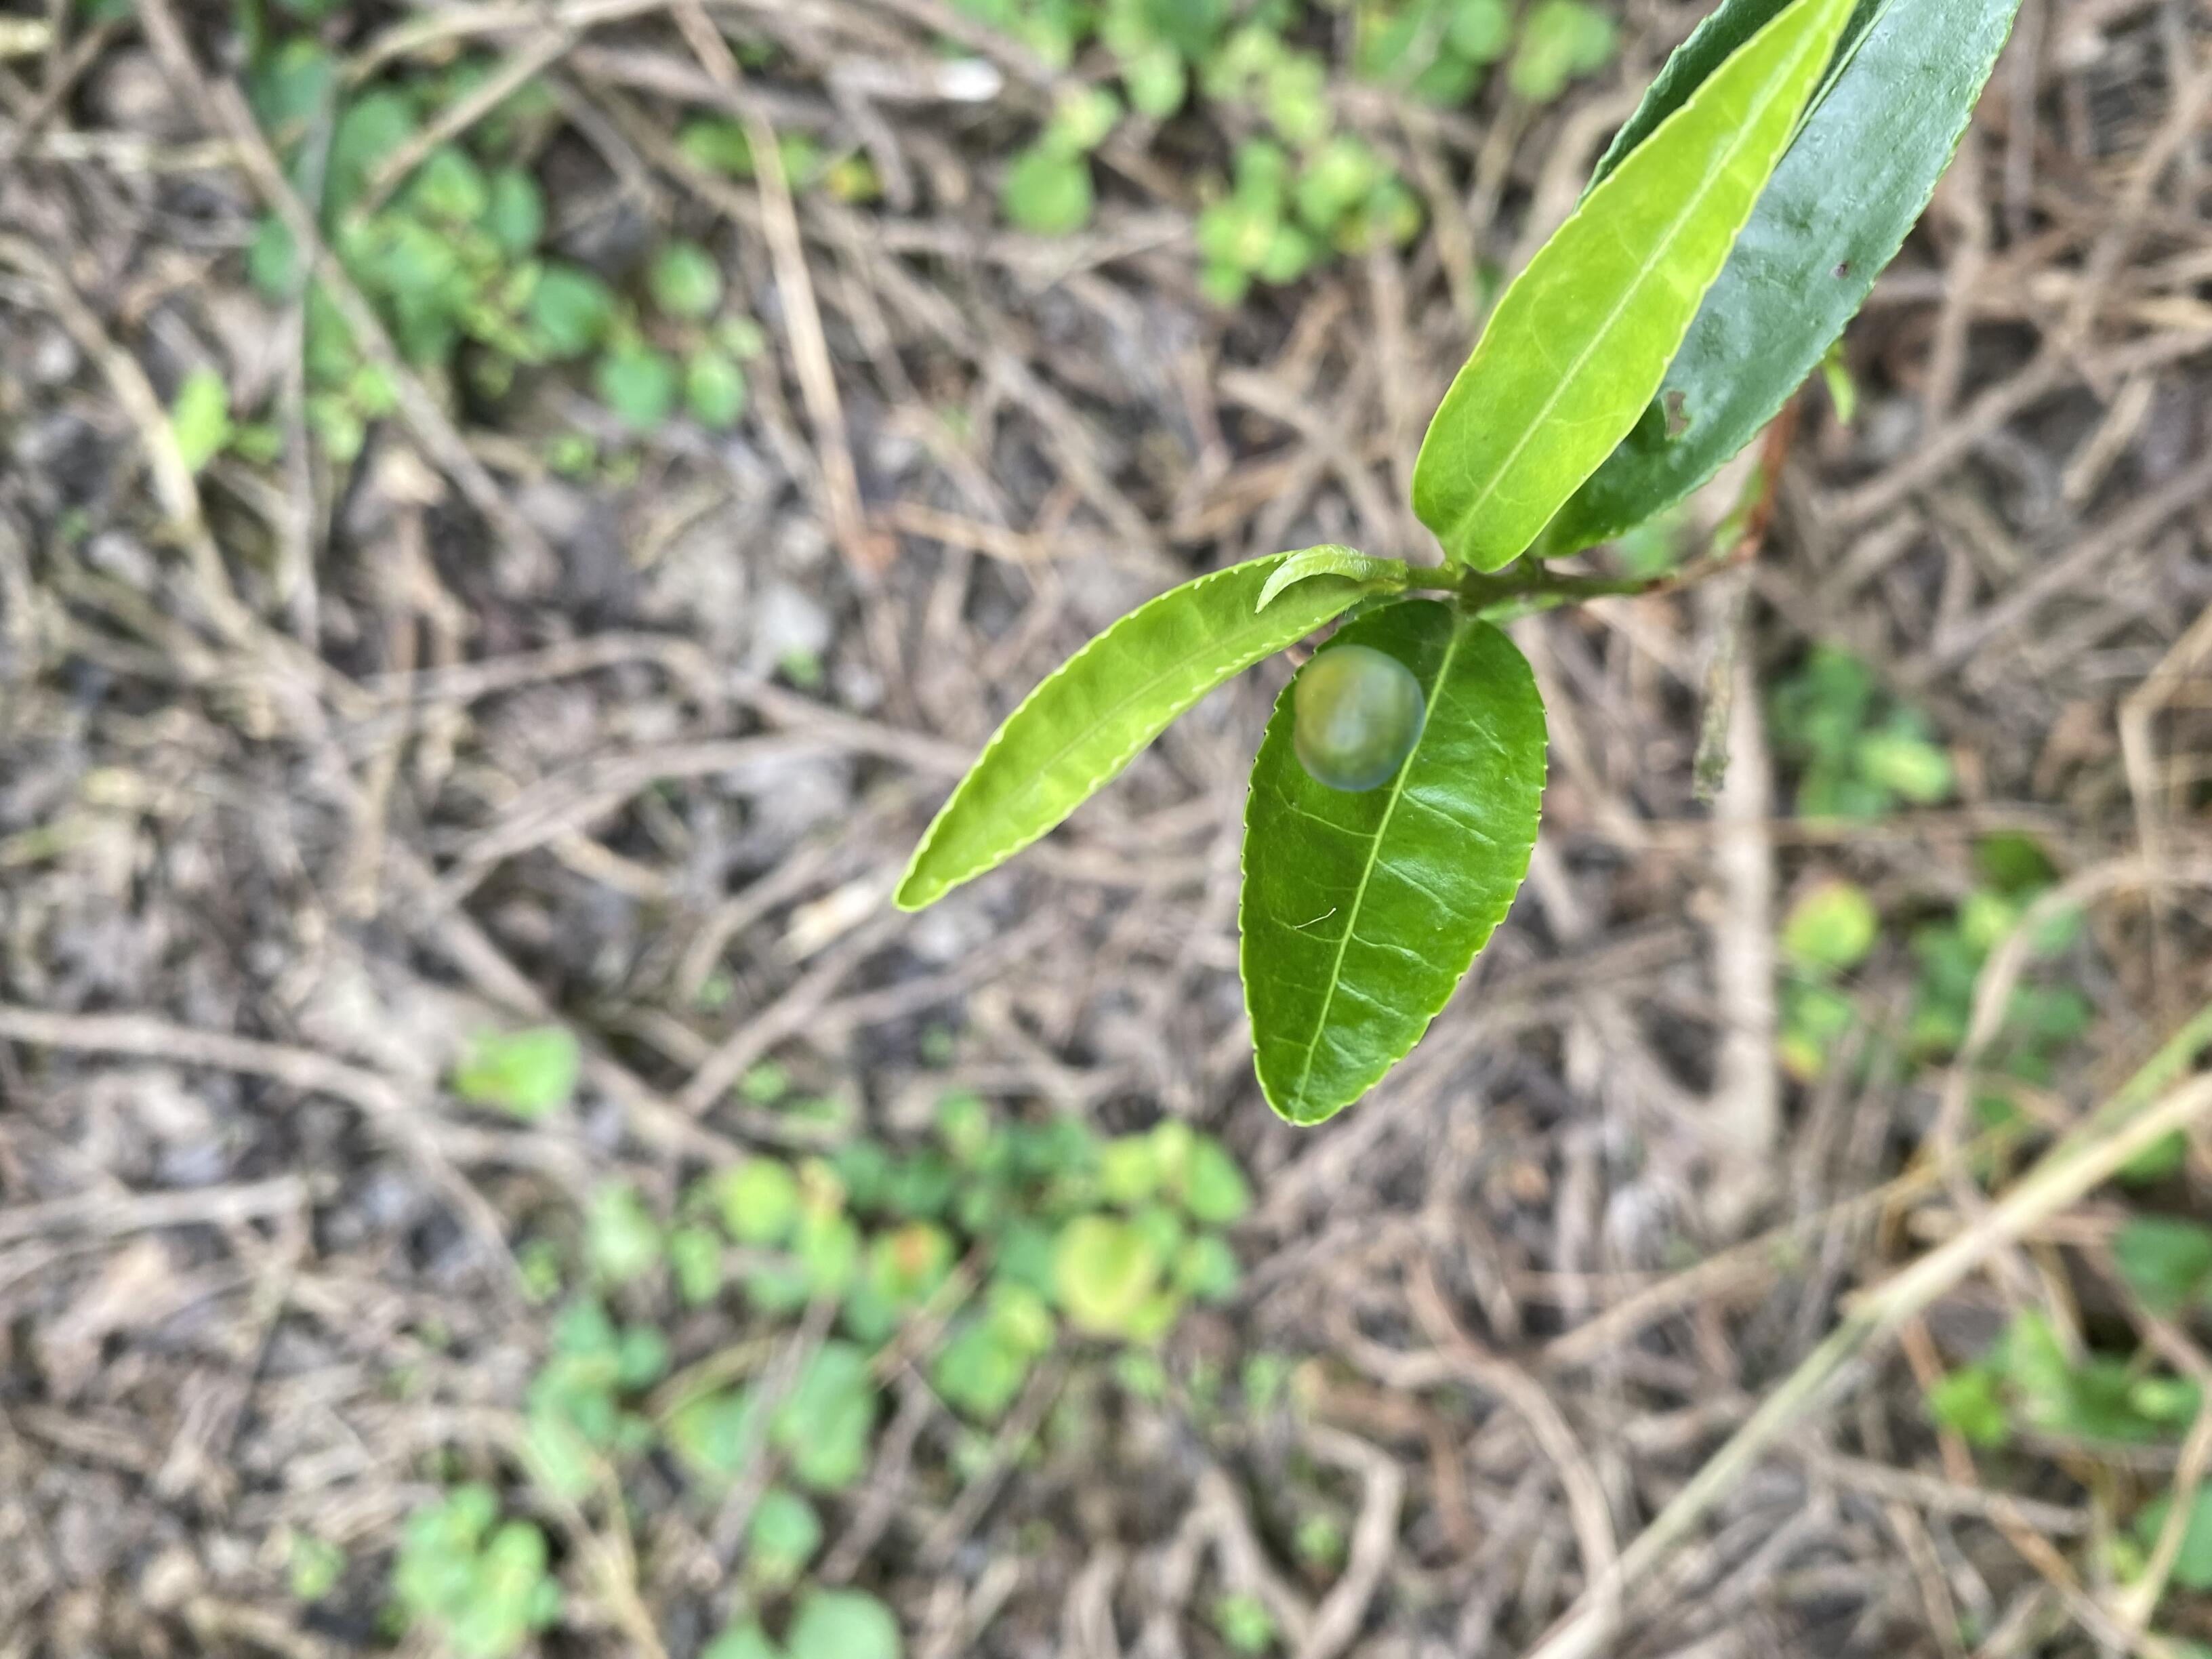chabing_low: (1237, 596, 1555, 1129)
healthy: (1407, 2, 1858, 584), (890, 545, 1385, 917)
tanju_low: (1533, 2, 2022, 561)
